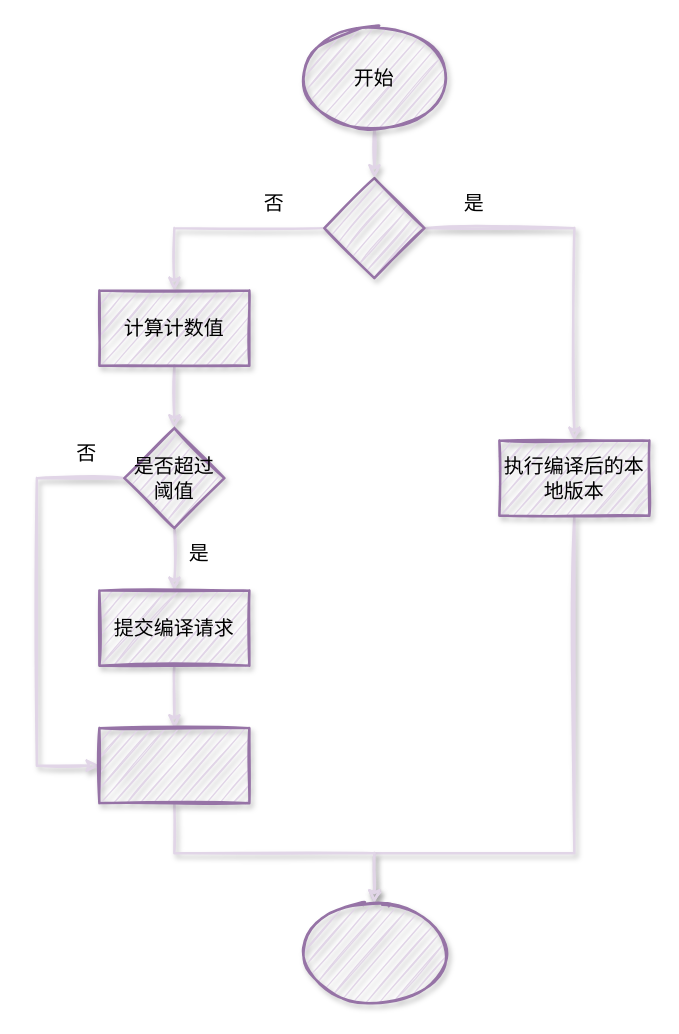
Some shapes in this 679 by 1034 pixel diagram are drawn without their labels. Here are the shapes that lost their labels. From the top down, the centre of each, then its label:
At (x=375, y=229): "是否存在编译版本".
At (x=175, y=766): "解释执行".
At (x=375, y=954): "结束".
